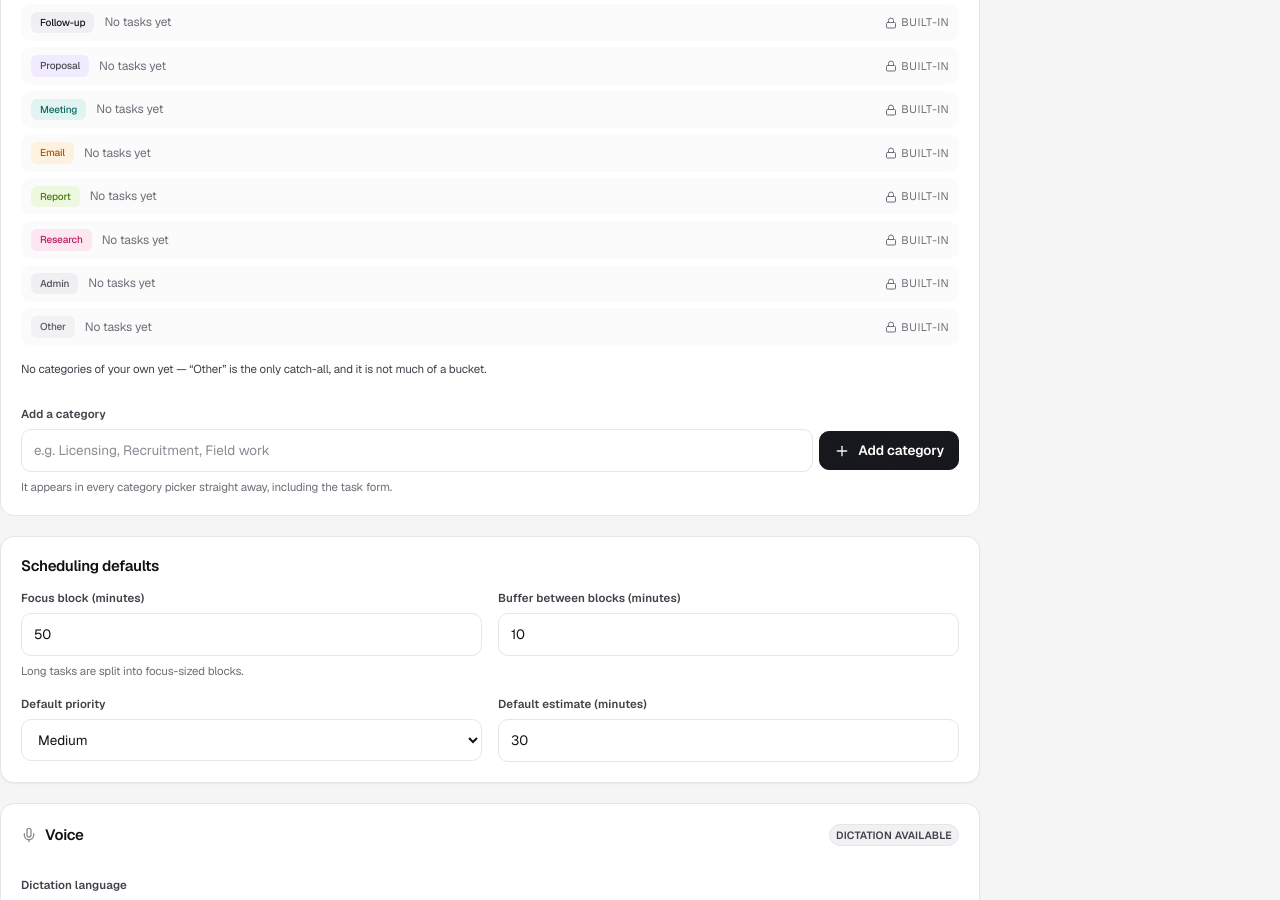
Categories in Settings › refuses a built-in name before anything is saved
The width and height of the screenshot is (1280, 900).
(page scrolled)
Type "Proposal" into the field labelled "Add a category".
click(417, 450); type("Proposal")  # box [21, 429, 813, 472]
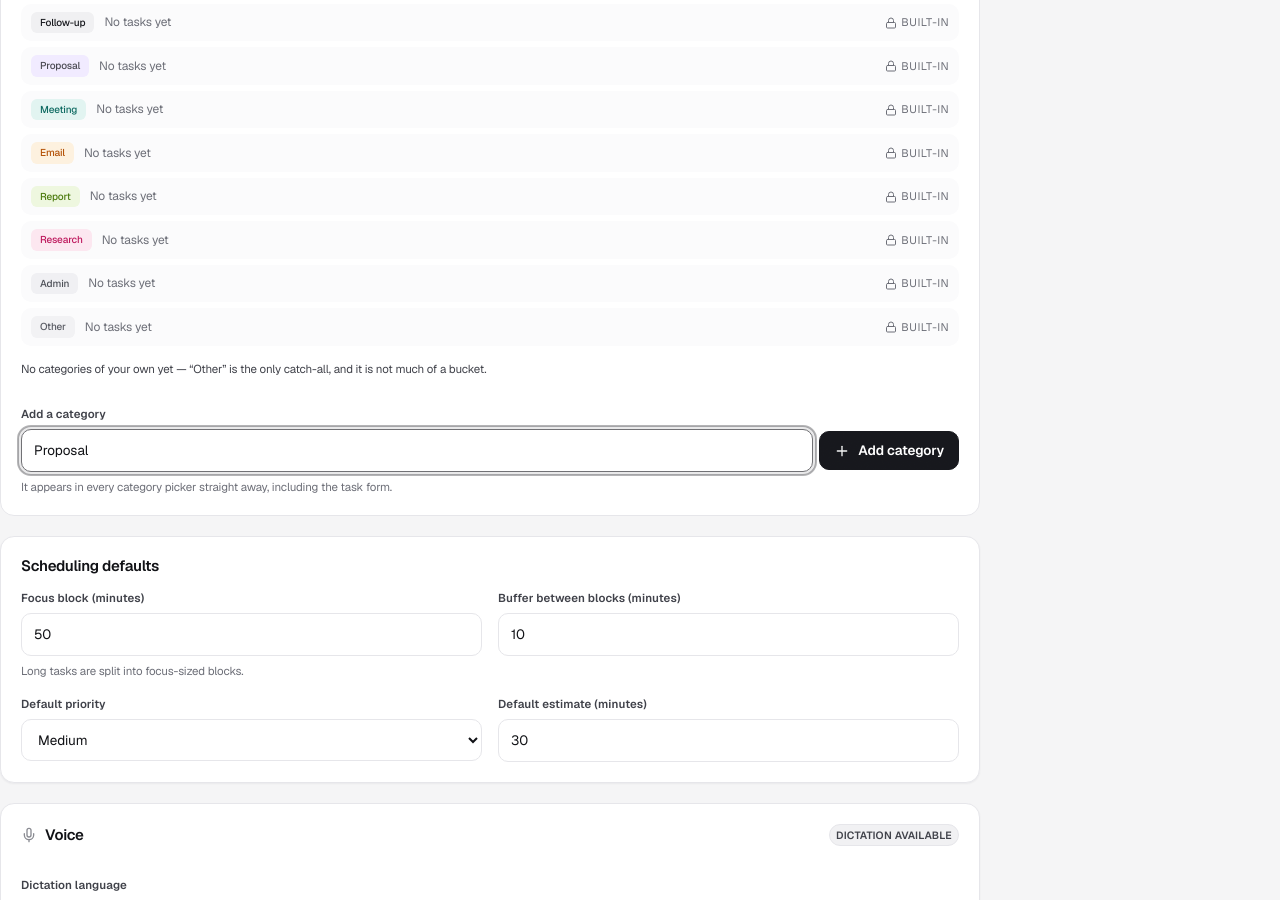
Click the button "Add category".
click(889, 450)  # box [819, 431, 959, 470]
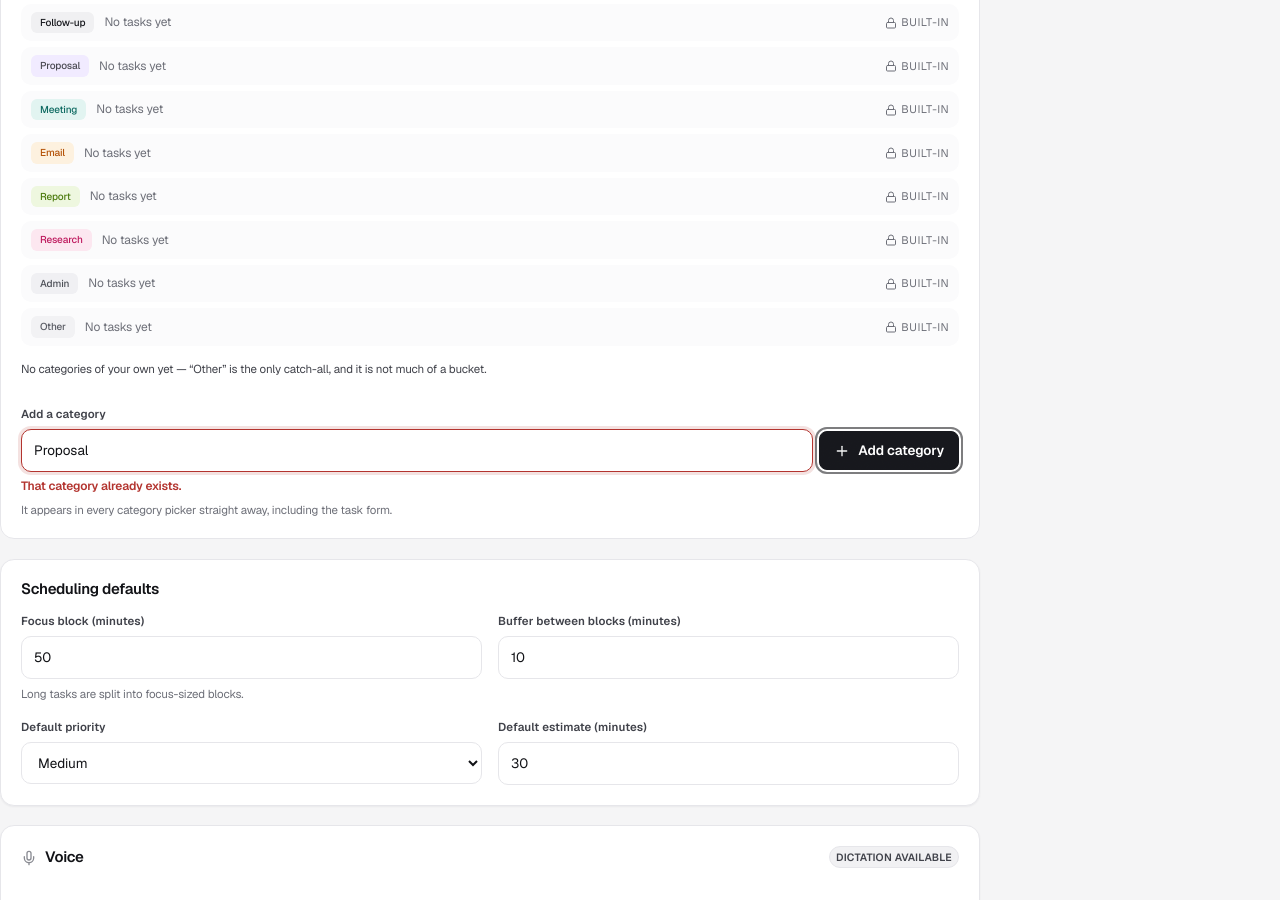
Check: the text "That category already exists." is shown, box [21, 478, 181, 494]
